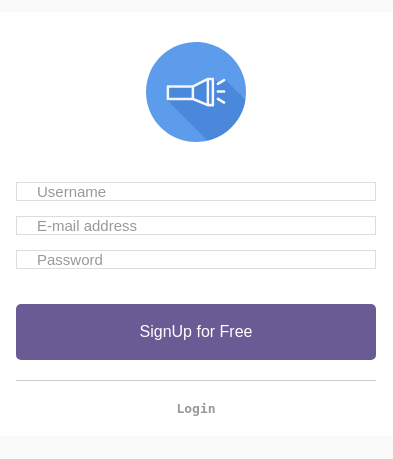
signup › test button with empty inputs
What coordinates should you click on to do the following:
click the button "SignUp for Free"
I would click on:
 (196, 332)
Its box is [16,304,376,360].
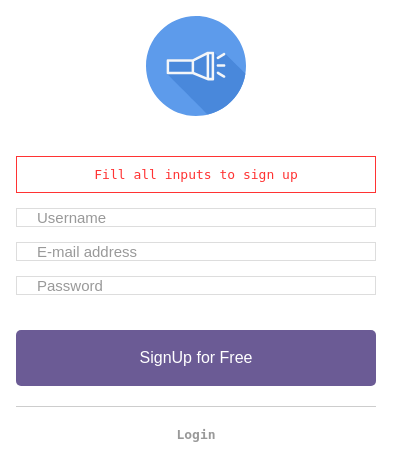
Expected: the text with test id "signup-error-msg" reads "Fill all inputs to sign up", [94,167,298,182]
